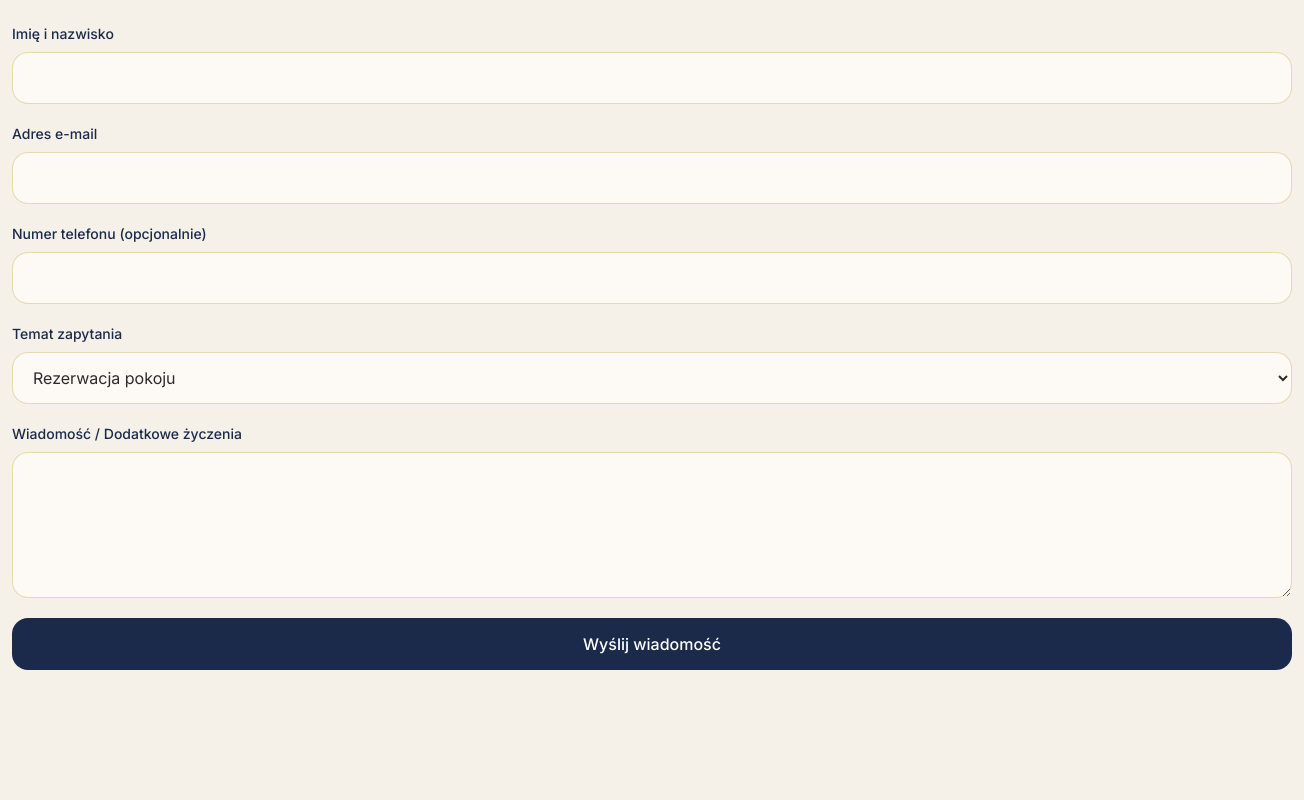
it: ContactForm submission › posts the message to /api/contact with the honeypot value
In the field labelled "Imię i nazwisko": {"x": 652, "y": 78} [12,52,1292,104], type "Anna Test"
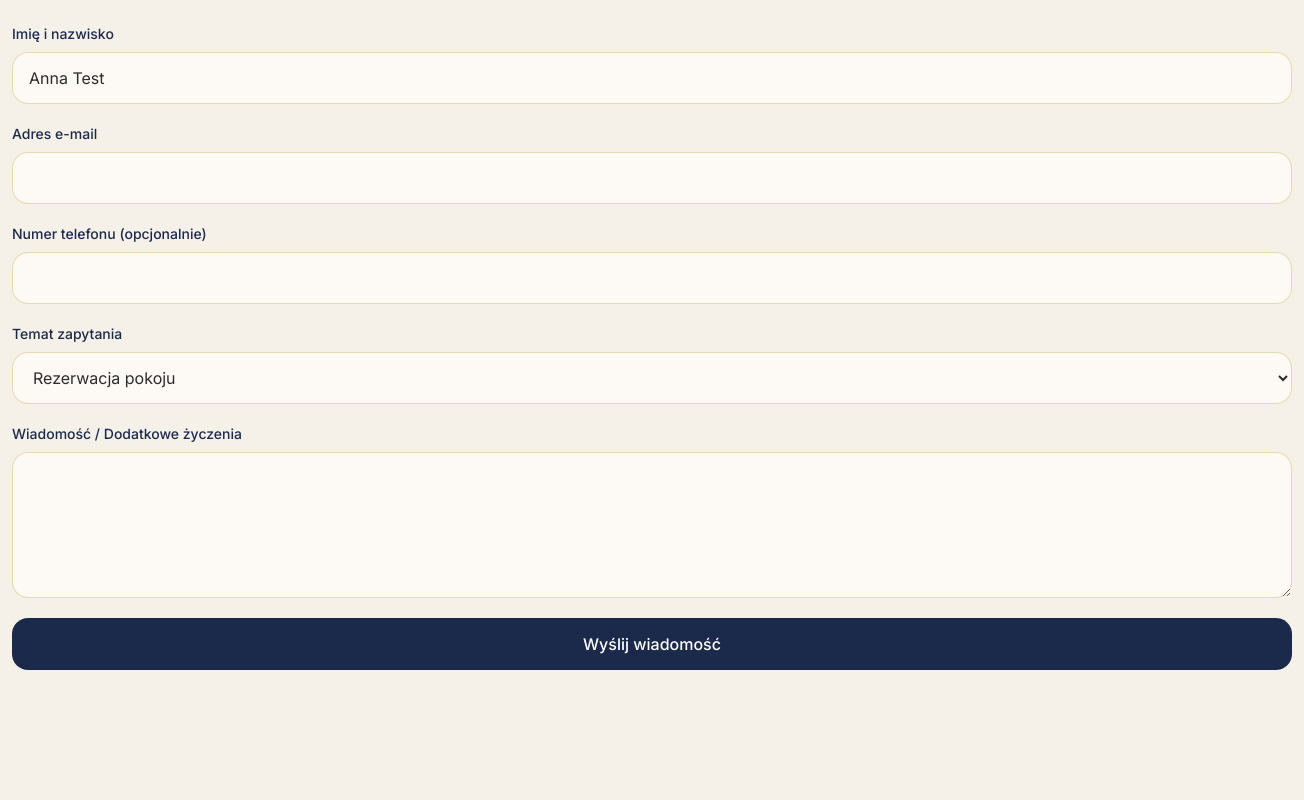
In the field labelled "Adres e-mail": {"x": 652, "y": 178} [12,152,1292,204], type "anna@example.test"
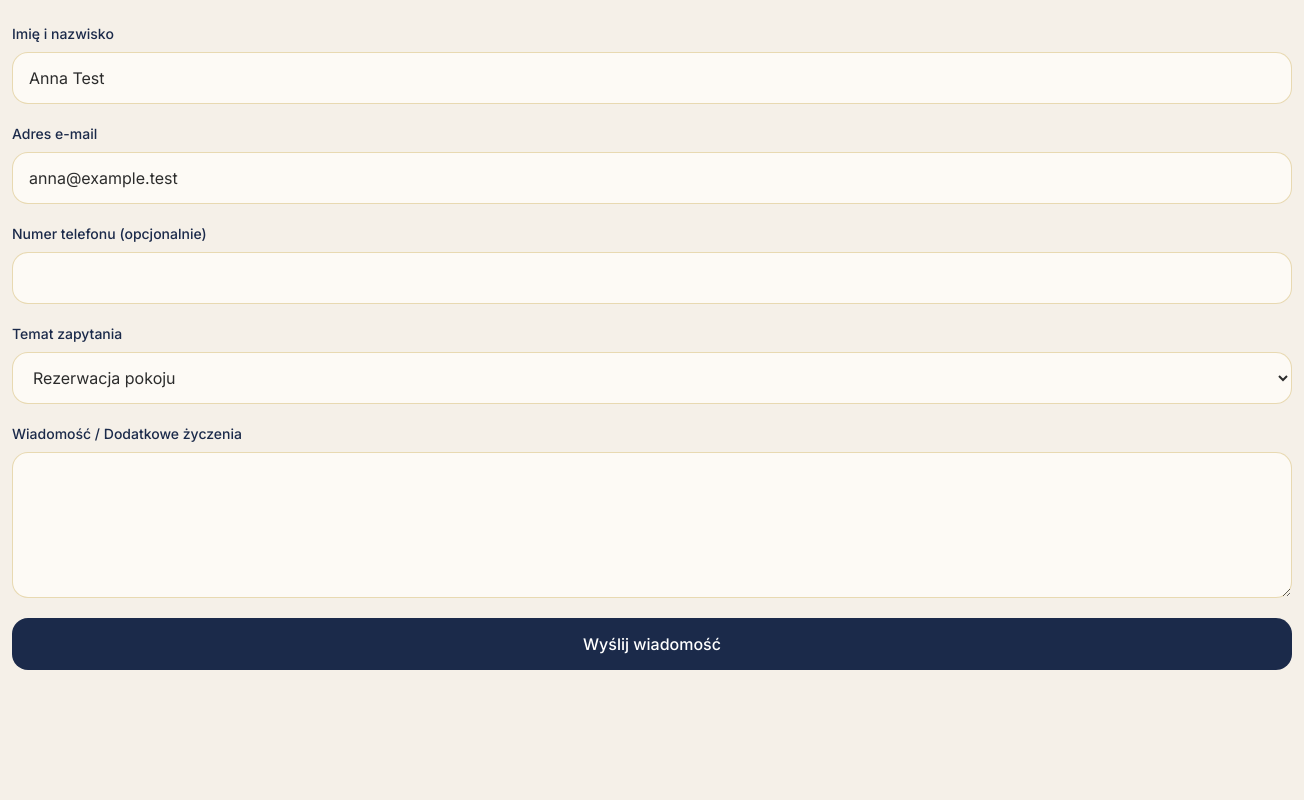
In the text box labelled "Wiadomość / Dodatkowe życzenia": {"x": 652, "y": 525} [12,452,1292,598], type "Hello"
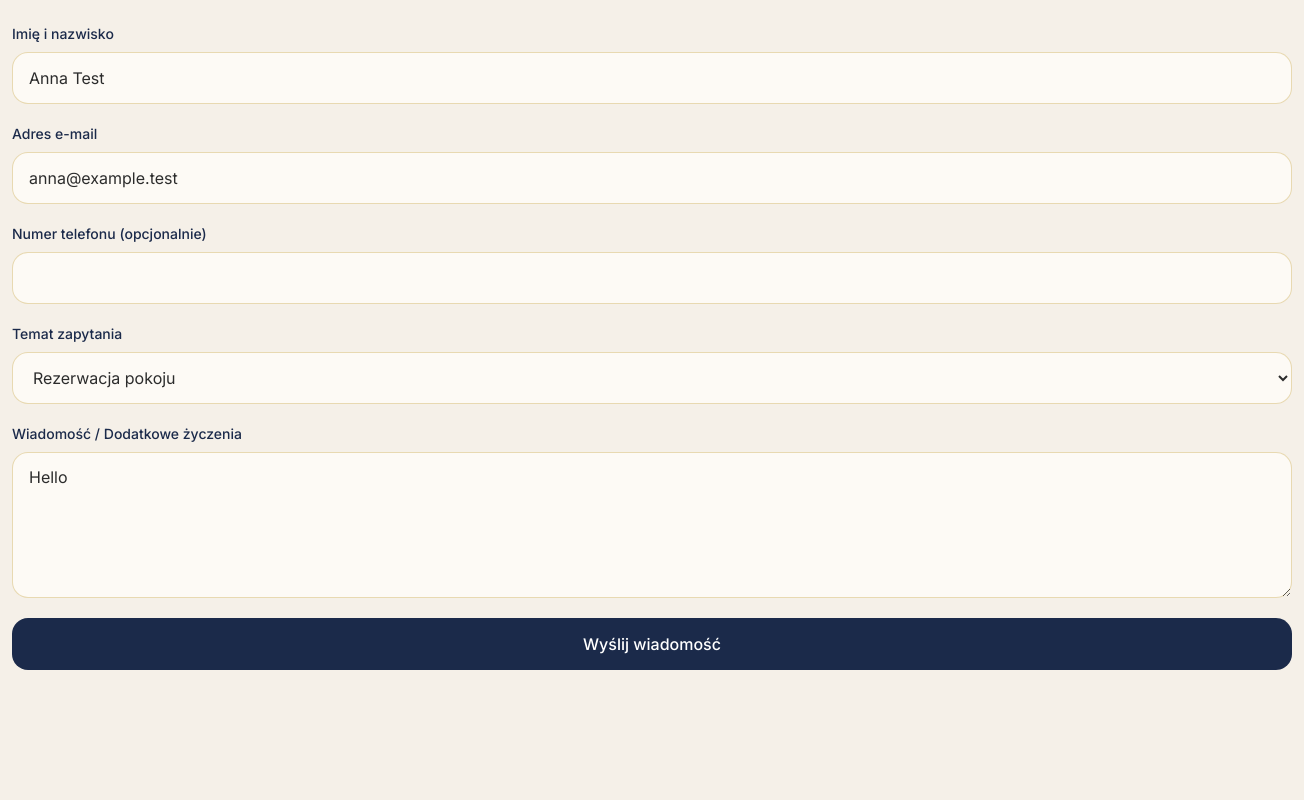
Click the button "Wyślij wiadomość": {"x": 652, "y": 644} [12,618,1292,670]
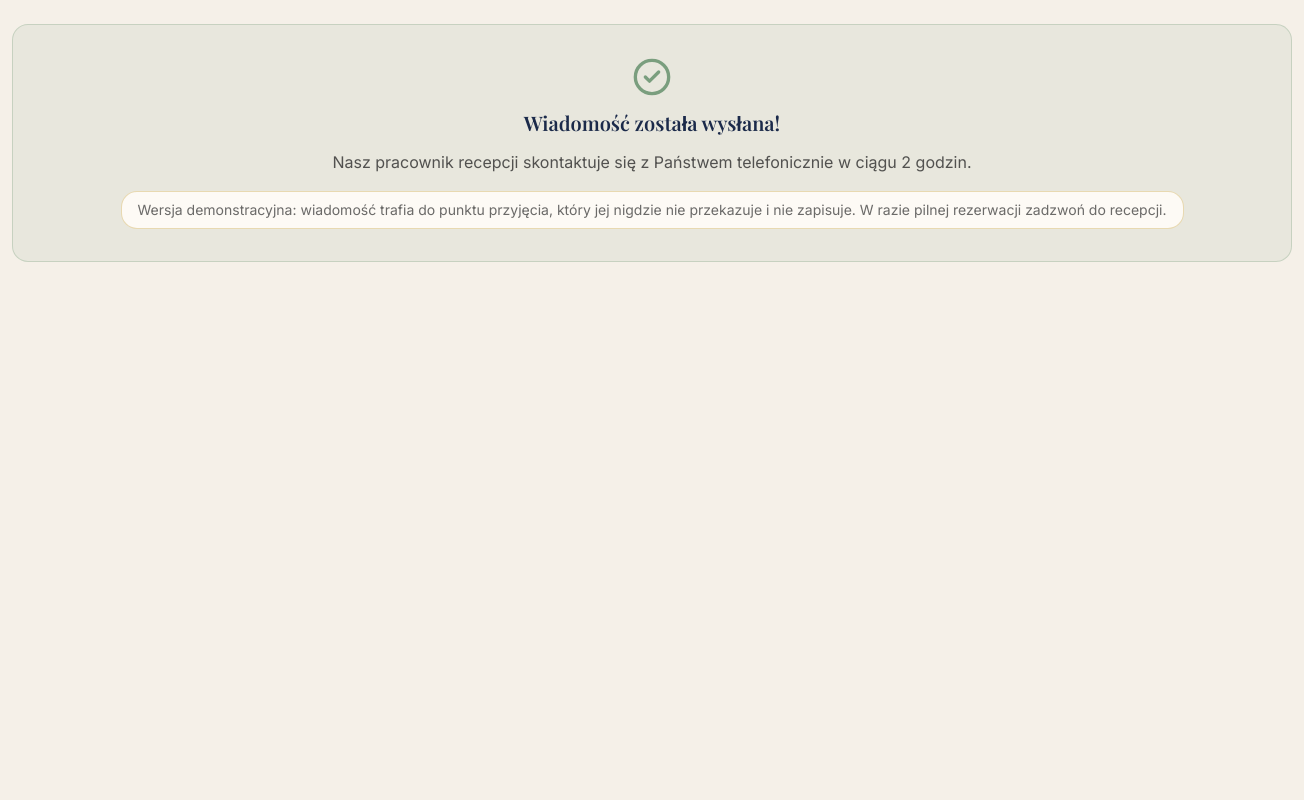
Check: the message is shown, box [12,24,1292,262]
